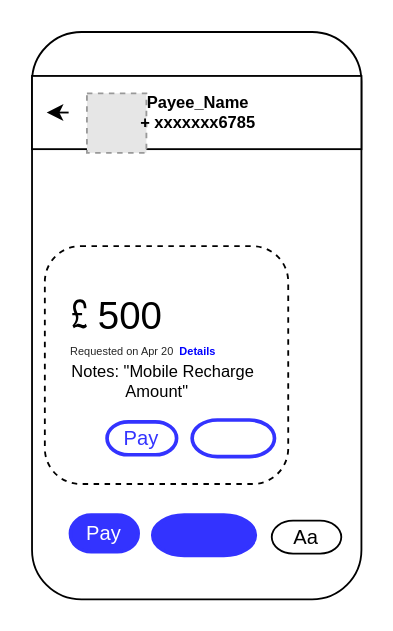
The diagram is 393 pixels wide and 631 high, and some of its shapes have lost their labels. Grey dashed boxes stand in for pictures. The box of each missing label's shape, as (x1, y1, x2, y2) in pixels:
Decline: (189, 417, 275, 458)
Request: (150, 512, 256, 556)
